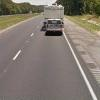Car: (41, 13, 67, 37)
